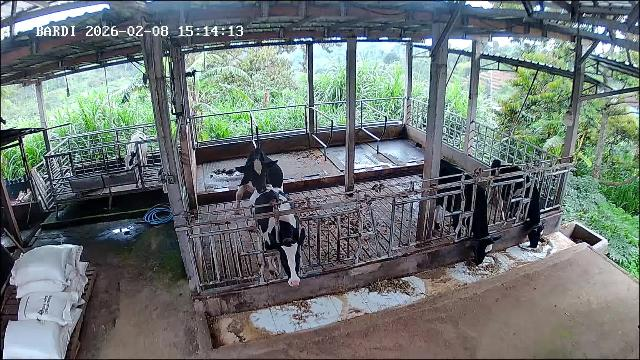mounting: (231, 147, 288, 230)
